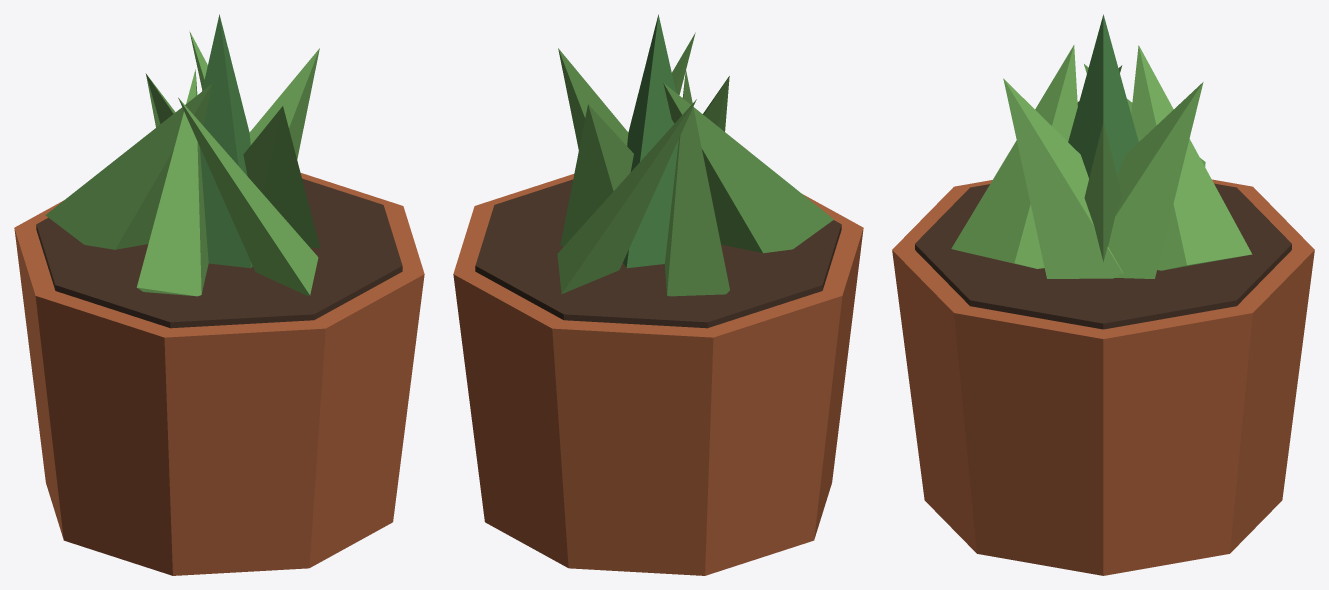
The model's file is plant_desk.glb.
3 renders of one model, left to right at view 1: azimuth 30°, elevation 25°; view 2: azimuth 150°, elevation 25°; view 3: azimuth 270°, elevation 25°, orthographic.
Parts seen in each view (by area): view 1: PlantDesk; view 2: PlantDesk; view 3: PlantDesk.
Boxes of the visible parts, x1=… form: PlantDesk: x1=14, y1=14, x2=424, y2=575; PlantDesk: x1=453, y1=14, x2=863, y2=575; PlantDesk: x1=892, y1=14, x2=1314, y2=575.
Bounding box in the file's own units: 0.13 × 0.165 × 0.13.
